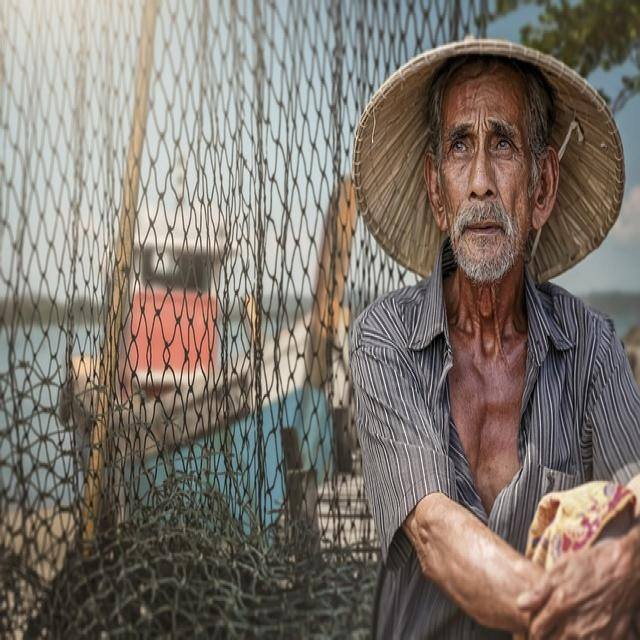Real human 2: (332, 21, 640, 640)
